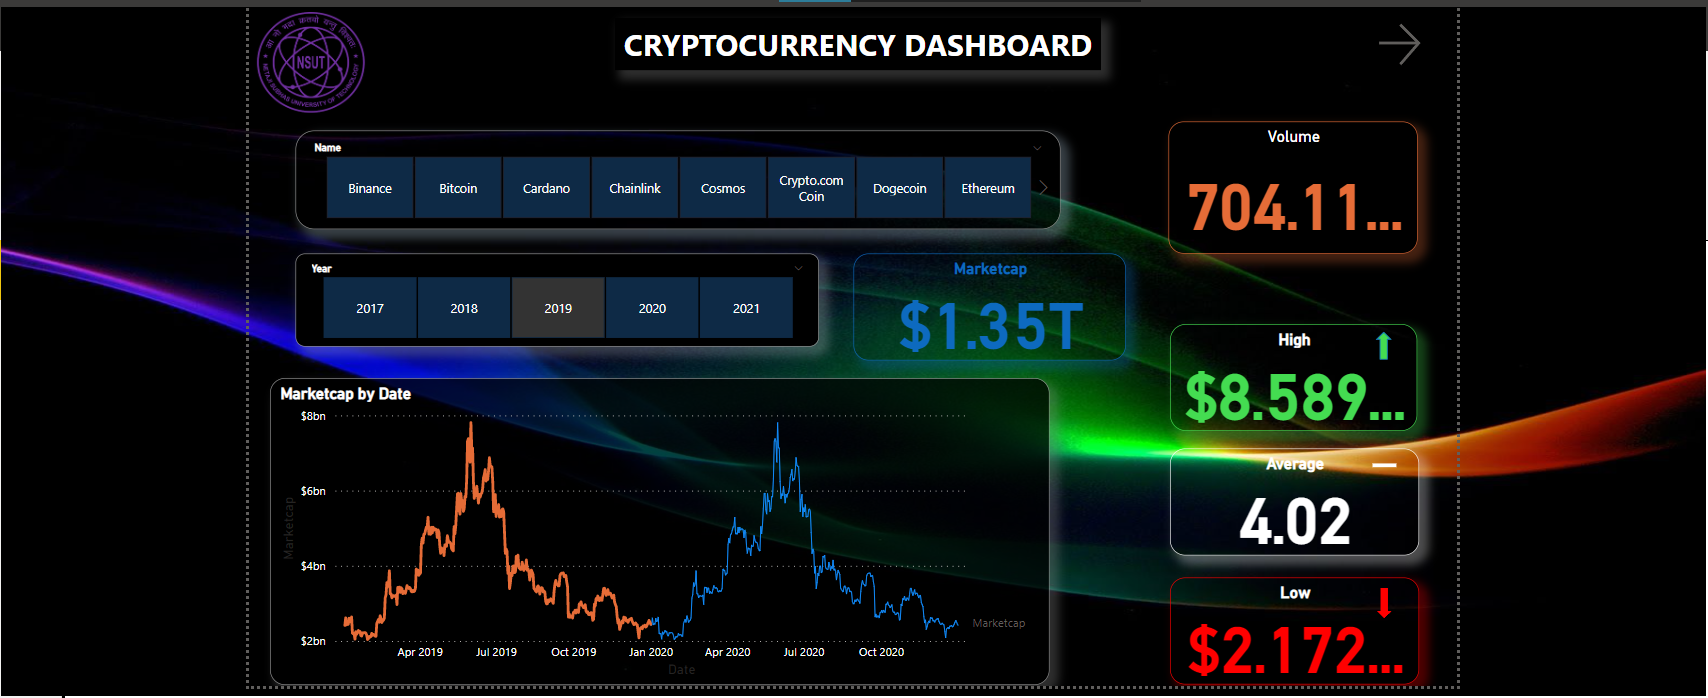

The dashboard page shown, as its layout file describes it:
{"tool":"powerbi","page":{"name":"Page 1","canvas":[1280,720],"ordinal":0},"visuals":[{"type":"slicer","fields":{"Values":["CryptoData.Name"]},"box":[49.3,131.9,810.6,104.9],"z":0},{"type":"slicer","fields":{"Values":["CryptoData.Year"]},"box":[49.3,262.3,554.7,98.5],"z":1000},{"type":"actionButton","box":[1190.1,12.8,64.2,56.2],"z":2000},{"type":"image","box":[0,0,131.9,119.2],"z":3000},{"type":"textbox","box":[387.8,12.7,515,55.6],"z":4000},{"type":"card","title":"Marketcap","fields":{"Values":["Sum(CryptoData.Marketcap)"]},"box":[640.8,262,288.7,113.5],"z":5000},{"type":"card","title":"Low","fields":{"Values":["Min(CryptoData.Low)"]},"box":[976.3,605.8,263.7,113.5],"z":6000},{"type":"card","title":"Average","fields":{"Values":["Avg(CryptoData.Average)"]},"box":[976.3,468.9,263.7,113.5],"z":7000},{"type":"card","title":"Volume","fields":{"Values":["Sum(CryptoData.Volume)"]},"box":[974.6,121.8,263.7,140.2],"z":8000},{"type":"card","title":"High","fields":{"Values":["Max(CryptoData.High)"]},"box":[976.3,337.1,262,113.5],"z":9000},{"type":"shape","box":[1193.6,344.9,17.5,30.2],"z":10000},{"type":"shape","box":[1189.9,480.6,25,13.4],"z":11000},{"type":"shape","box":[1194.9,617.5,15,31.7],"z":12000},{"type":"lineChart","fields":{"Y":["Sum(CryptoData.Marketcap)"],"Category":["CryptoData.Date"]},"box":[21.7,393.8,826.1,325.4],"z":13000}]}

Visuals, with their boxes on the page's 1280x720 design canvas (x1, y1, x2, y2). These are canvas units, not pixel positions in the 1708x698 screenshot, which may show the page scaled, cropped or inside an application window:
slicer - CryptoData.Name: pyautogui.locateOnScreen(49, 132, 860, 237)
slicer - CryptoData.Year: pyautogui.locateOnScreen(49, 262, 604, 361)
actionButton: pyautogui.locateOnScreen(1190, 13, 1254, 69)
image: pyautogui.locateOnScreen(0, 0, 132, 119)
textbox: pyautogui.locateOnScreen(388, 13, 903, 68)
"Marketcap" card: pyautogui.locateOnScreen(641, 262, 930, 376)
"Low" card: pyautogui.locateOnScreen(976, 606, 1240, 719)
"Average" card: pyautogui.locateOnScreen(976, 469, 1240, 582)
"Volume" card: pyautogui.locateOnScreen(975, 122, 1238, 262)
"High" card: pyautogui.locateOnScreen(976, 337, 1238, 451)
shape: pyautogui.locateOnScreen(1194, 345, 1211, 375)
shape: pyautogui.locateOnScreen(1190, 481, 1215, 494)
shape: pyautogui.locateOnScreen(1195, 618, 1210, 649)
lineChart - Sum(CryptoData.Marketcap) x CryptoData.Date: pyautogui.locateOnScreen(22, 394, 848, 719)
